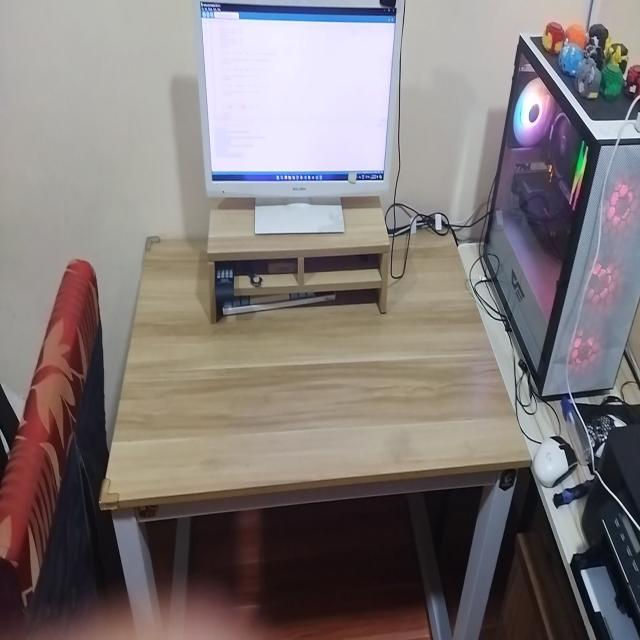table: (101, 221, 532, 640)
